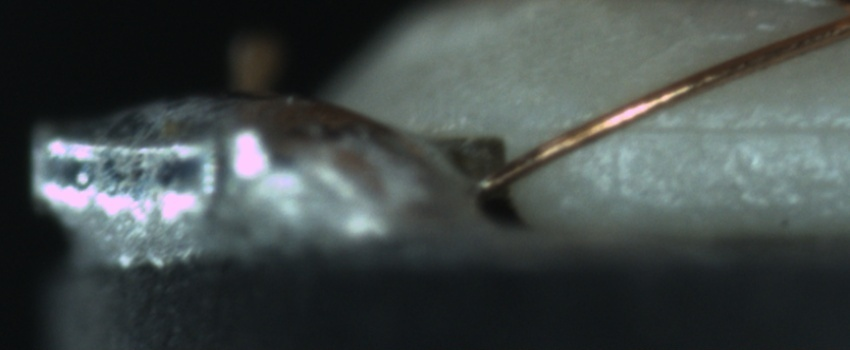DL: (570, 97, 847, 159)
